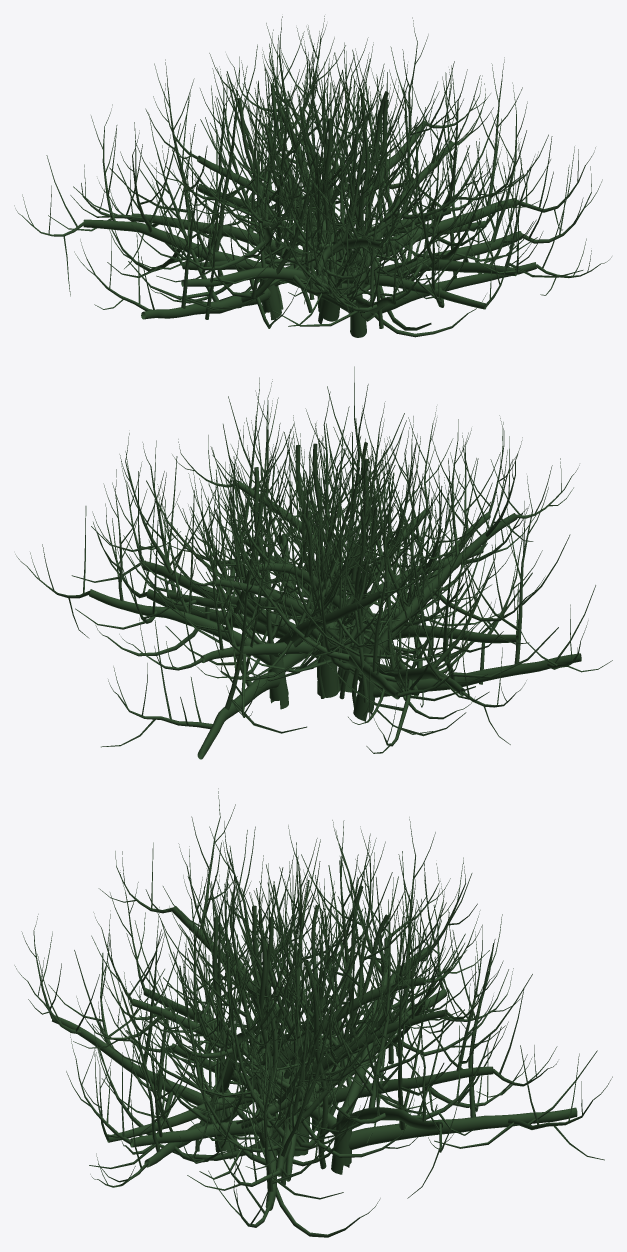
Rendered from GreenBush_01.fbx.
3 views of the same model, one above another, from view 1: azimuth 30°, elevation 25°; view 2: azimuth 150°, elevation 25°; view 3: azimuth 270°, elevation 25° (orthographic). The views are drawn at different scales.
Visible parts, largest first — view 1: Foliage001; view 2: Foliage001; view 3: Foliage001.
Boxes of the visible parts, x1,y1,x2,y2 form: Foliage001: [14, 16, 611, 337]; Foliage001: [15, 366, 612, 759]; Foliage001: [14, 788, 612, 1237].
Bounding box in the file's own units: 261 × 142 × 240.
